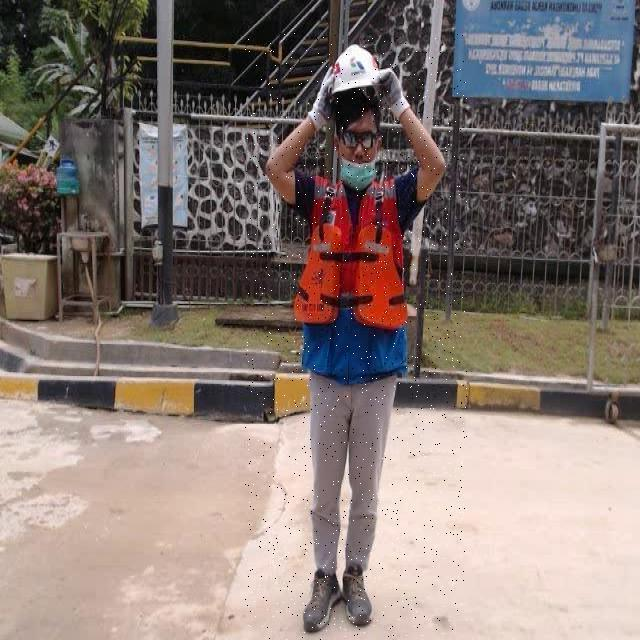gloves: (370, 67, 409, 121), (307, 66, 336, 132)
goggles: (341, 130, 374, 150)
helmet: (329, 43, 386, 95)
safety_vest: (295, 175, 406, 378)
